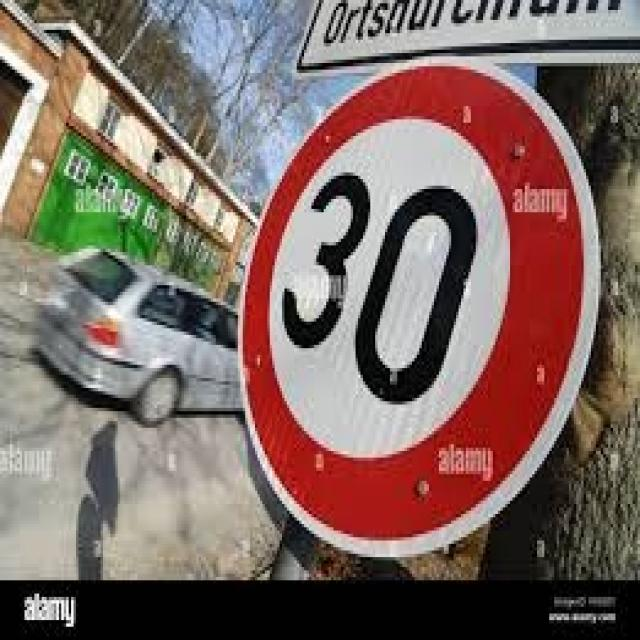speed_limit_30: (232, 48, 604, 554)
